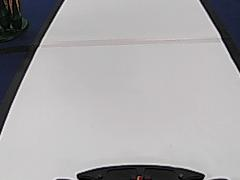corn: (0, 0, 29, 37)
